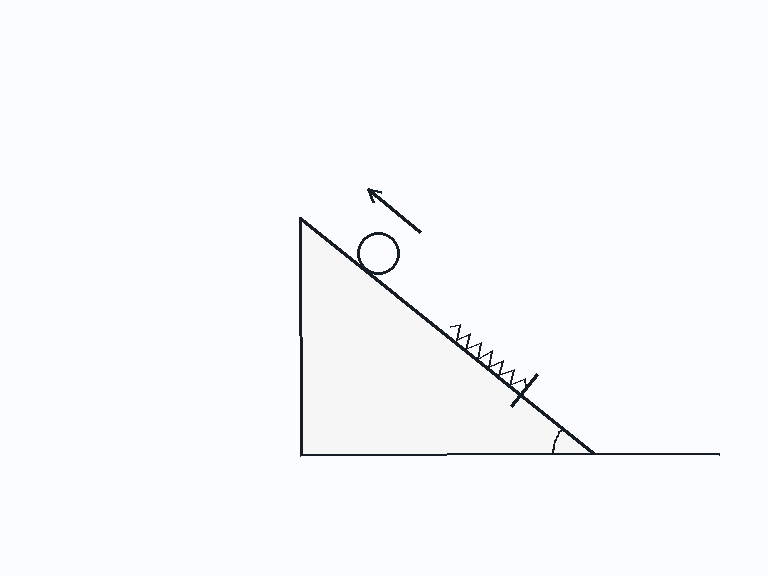ball: (355, 230, 401, 276)
ramp: (299, 215, 595, 456)
spring: (448, 323, 528, 390)
